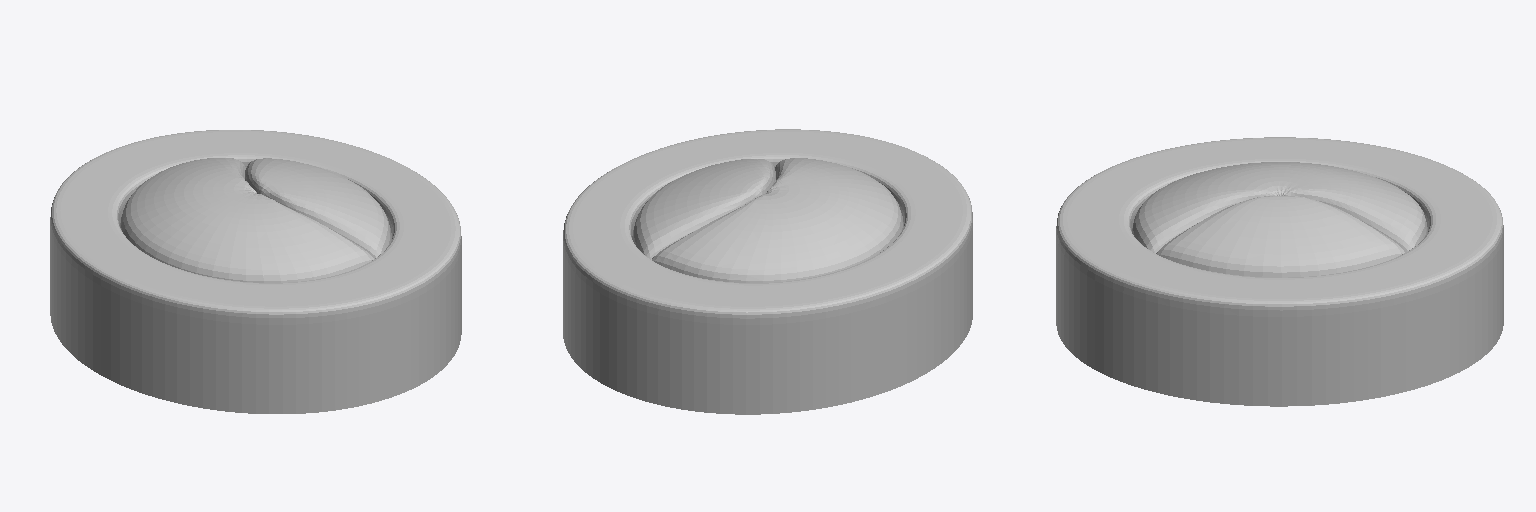
The model's file is pot_flushbutton.obj.
3 renders of one model, left to right at view 1: azimuth 30°, elevation 25°; view 2: azimuth 150°, elevation 25°; view 3: azimuth 270°, elevation 25°, orthographic.
Parts seen in each view (by area): view 1: Flush_Button; view 2: Flush_Button; view 3: Flush_Button.
Boxes of the visible parts, box(x1,y1,x2,y2) form: Flush_Button: box(50, 130, 461, 413); Flush_Button: box(563, 129, 972, 414); Flush_Button: box(1056, 137, 1503, 406).
Bounding box in the file's own units: 8.18 × 3.02 × 9.2.